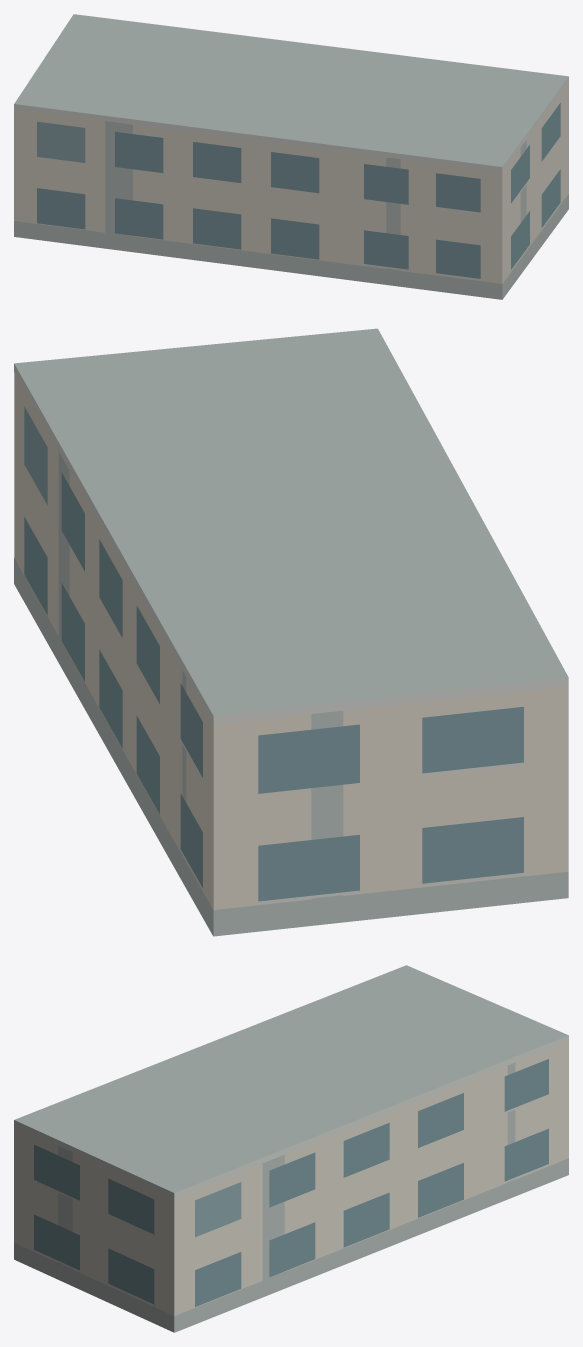
File: survey-upis-32753562.glb
The picture shows the model from 3 angles, top to bottom: view 1: azimuth 30°, elevation 25°; view 2: azimuth 150°, elevation 25°; view 3: azimuth 270°, elevation 25°; orthographic projection. The views are drawn at different scales.
Visible parts, largest first — view 1: survey-upis-32753562.tmp; view 2: survey-upis-32753562.tmp; view 3: survey-upis-32753562.tmp.
Boxes of the visible parts, <box> form: survey-upis-32753562.tmp: <box>14,14,568,299</box>; survey-upis-32753562.tmp: <box>14,328,568,936</box>; survey-upis-32753562.tmp: <box>14,965,568,1332</box>.
Size of the model in its own units: 21.37 by 6.1 by 21.97.
